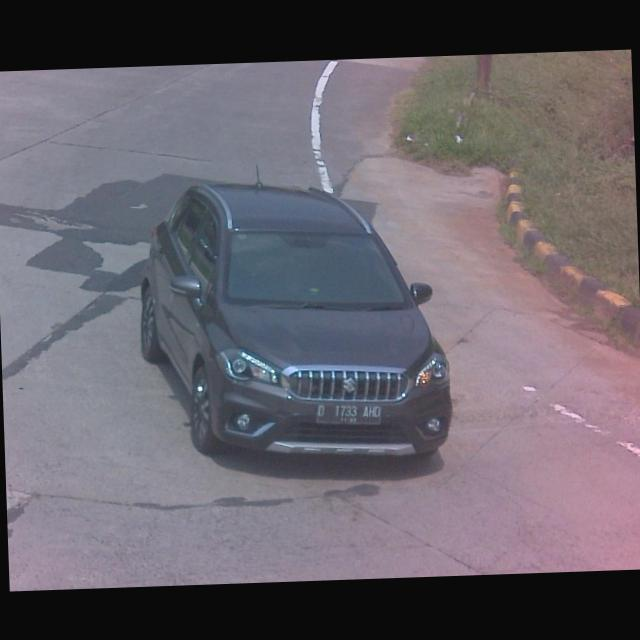plate: (315, 398, 386, 430)
